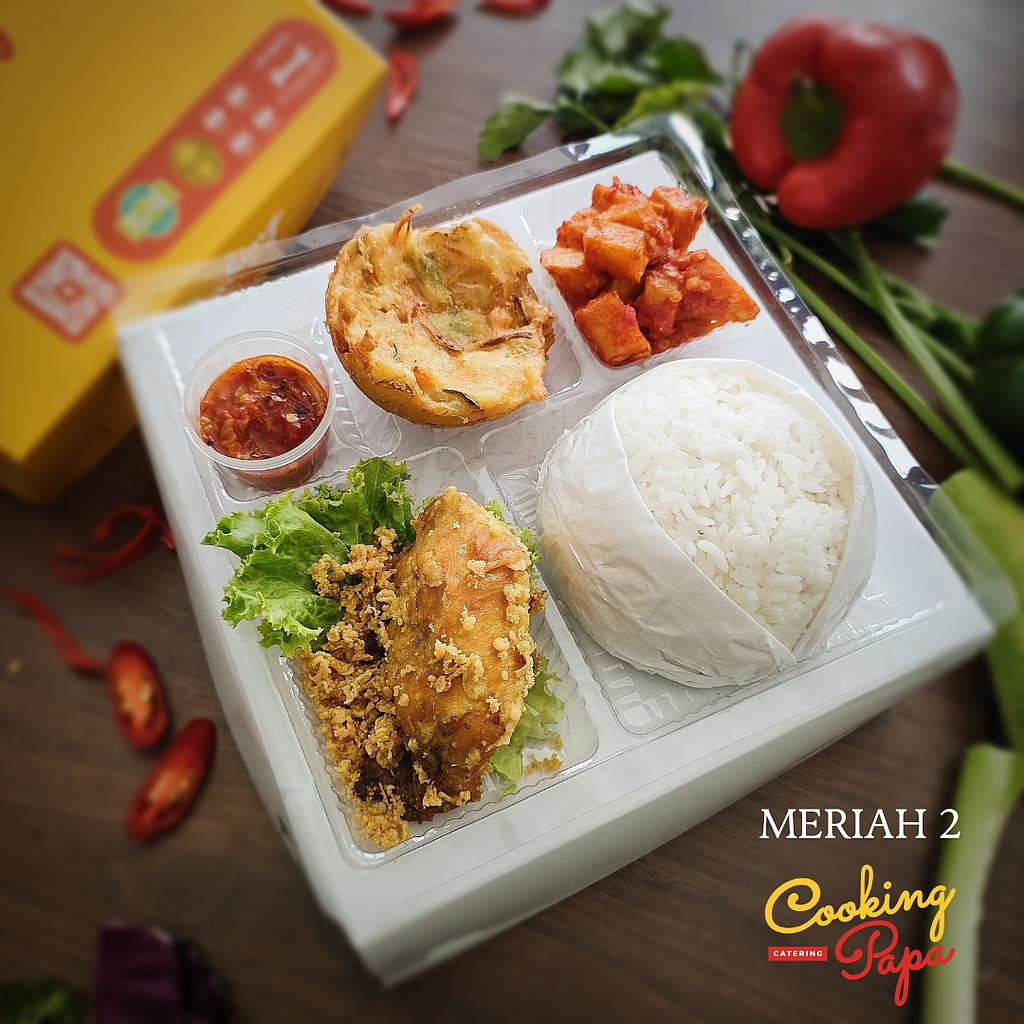buah_sayur_lainnya: (242, 522, 307, 597)
buah_sayur_vitA: (223, 384, 309, 435)
daging: (405, 548, 505, 735)
makanan_berpati: (599, 395, 833, 635), (355, 248, 517, 382), (575, 202, 678, 326)
